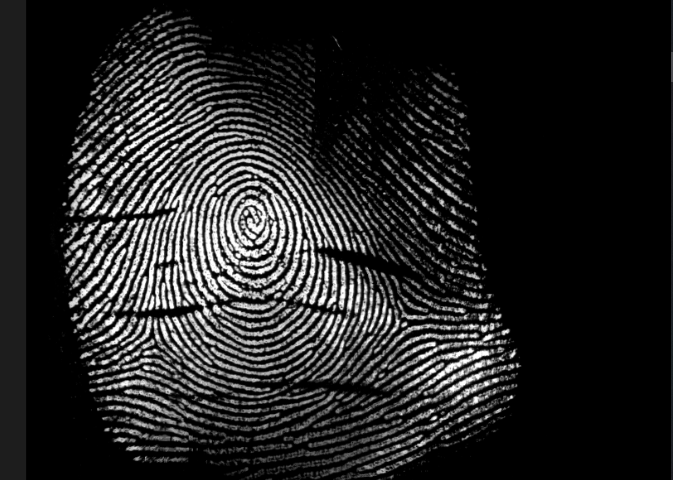deltas: (369, 291, 432, 345), (125, 311, 179, 362)
nucleo: (224, 190, 274, 248)
